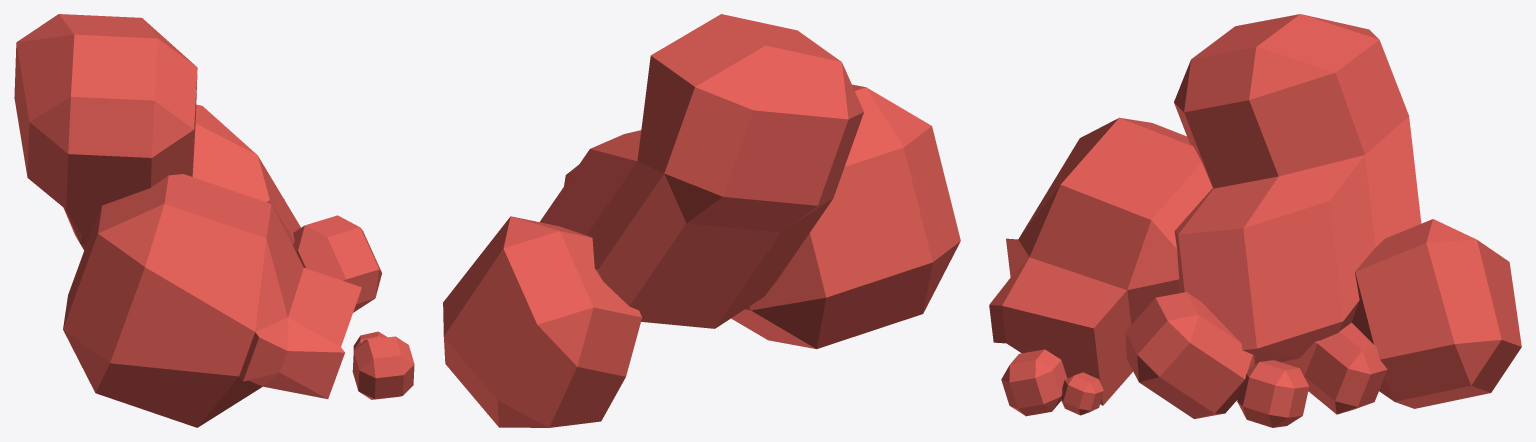
The model's file is rock_pink.glb.
3 views of the same model, side by side, from view 1: azimuth 30°, elevation 25°; view 2: azimuth 150°, elevation 25°; view 3: azimuth 270°, elevation 25° (orthographic). The views are drawn at different scales.
Parts seen in each view (by area): view 1: Cube, Cube.005, Cube.003, Cube.004; view 2: Cube.005, Cube.001, Cube; view 3: Cube.005, Cube, Cube.001, Cube.003, Cube.002, Cube.006, Cube.004, Cube.007.
Part boxes in pixels (left/top/right/bottom): Cube: left=63, top=174, right=361, bottom=427; Cube.005: left=14, top=14, right=300, bottom=244; Cube.003: left=292, top=215, right=381, bottom=312; Cube.004: left=352, top=336, right=414, bottom=399; Cube.005: left=540, top=14, right=863, bottom=328; Cube.001: left=443, top=216, right=641, bottom=427; Cube: left=731, top=84, right=960, bottom=349; Cube.005: left=1174, top=14, right=1421, bottom=364; Cube: left=989, top=117, right=1212, bottom=405; Cube.001: left=1351, top=219, right=1521, bottom=408; Cube.003: left=1125, top=292, right=1254, bottom=418; Cube.002: left=1281, top=322, right=1387, bottom=414; Cube.006: left=1237, top=360, right=1309, bottom=427; Cube.004: left=1001, top=349, right=1067, bottom=416; Cube.007: left=1060, top=372, right=1103, bottom=415.
Size of the model in its own units: 36.23 by 35.01 by 51.41.
